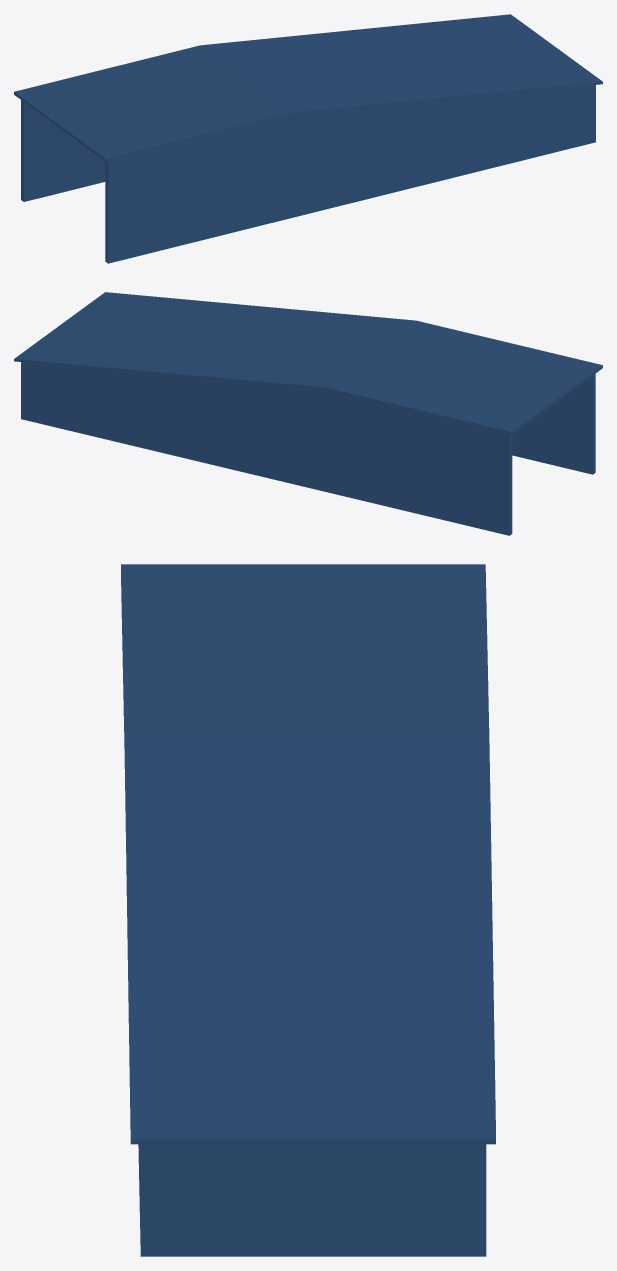
3 renders of one model, top to bottom at view 1: azimuth 30°, elevation 25°; view 2: azimuth 150°, elevation 25°; view 3: azimuth 270°, elevation 25°, orthographic. The views are drawn at different scales.
Parts seen in each view (by area): view 1: 1003???; view 2: 1003???; view 3: 1003???.
Part boxes in pixels (x1=…): 1003???: x1=14, y1=14, x2=602, y2=263; 1003???: x1=14, y1=292, x2=602, y2=535; 1003???: x1=121, y1=564, x2=495, y2=1256.
Size of the model in its own units: 25.2 by 5.19 by 8.27.
Materials: 1 (1 with a texture image).
